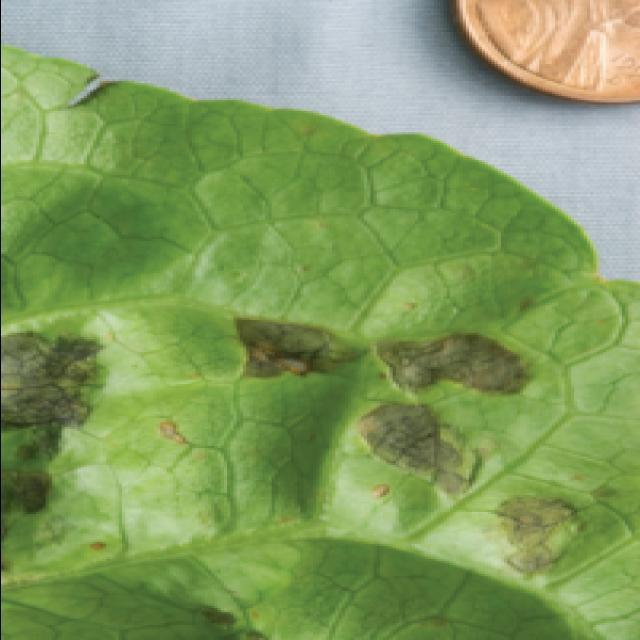Bacterial: (3, 290, 629, 579)
